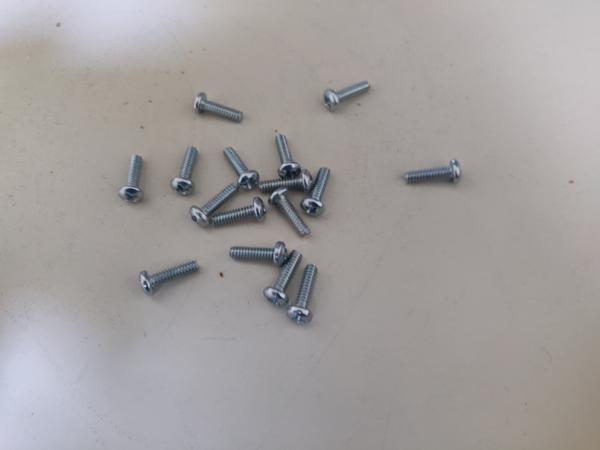shortscrew: (264, 251, 303, 308), (139, 261, 199, 297), (190, 184, 239, 228), (268, 187, 311, 237), (287, 264, 318, 324), (212, 197, 267, 227), (300, 167, 331, 218), (223, 147, 259, 190), (323, 81, 372, 112), (194, 91, 243, 122), (404, 159, 462, 184), (258, 169, 315, 194), (171, 147, 199, 196), (230, 242, 287, 266), (118, 155, 146, 203), (276, 132, 303, 179)
